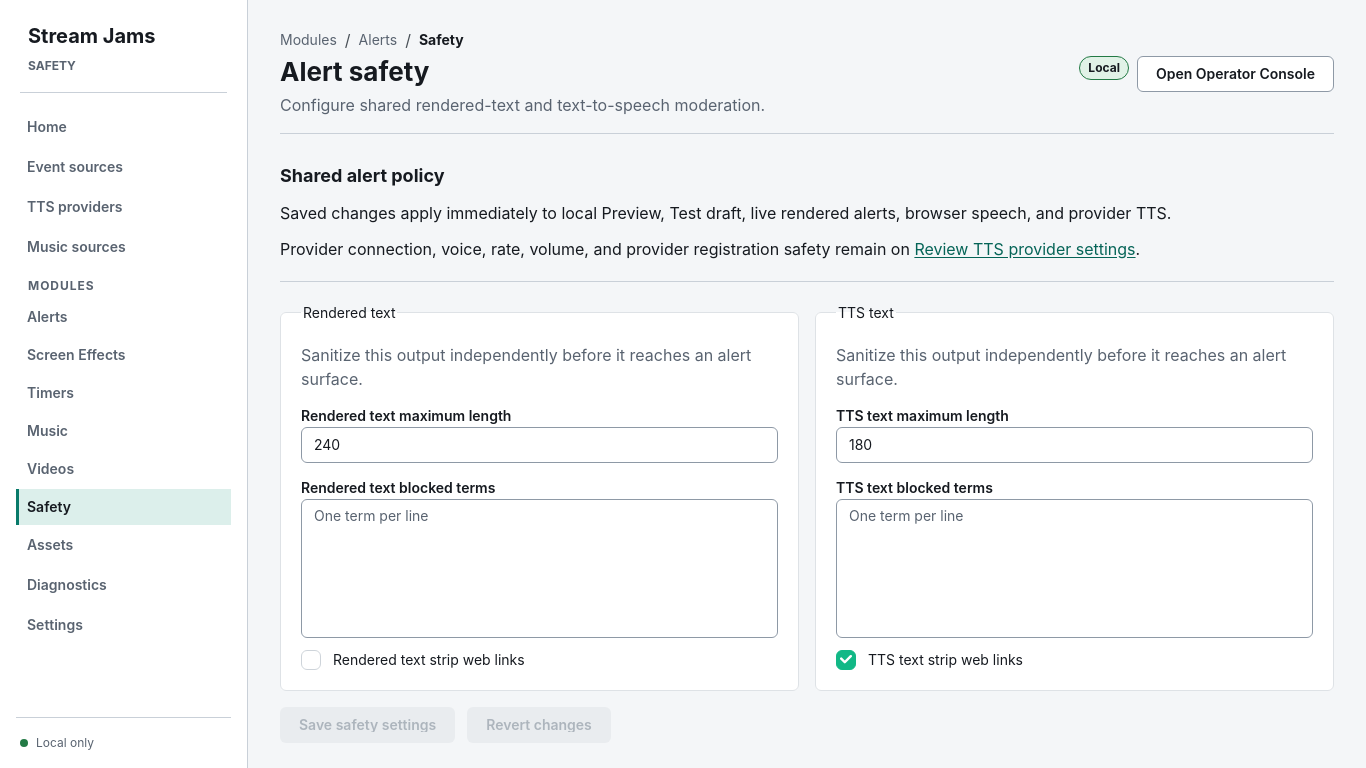
it: ManagementApp › cancels dirty alert safety navigation and keeps the draft
Replace the text in the number field labelled "Rendered text maximum length" with "300" at (540, 444), box [301,426,778,462]
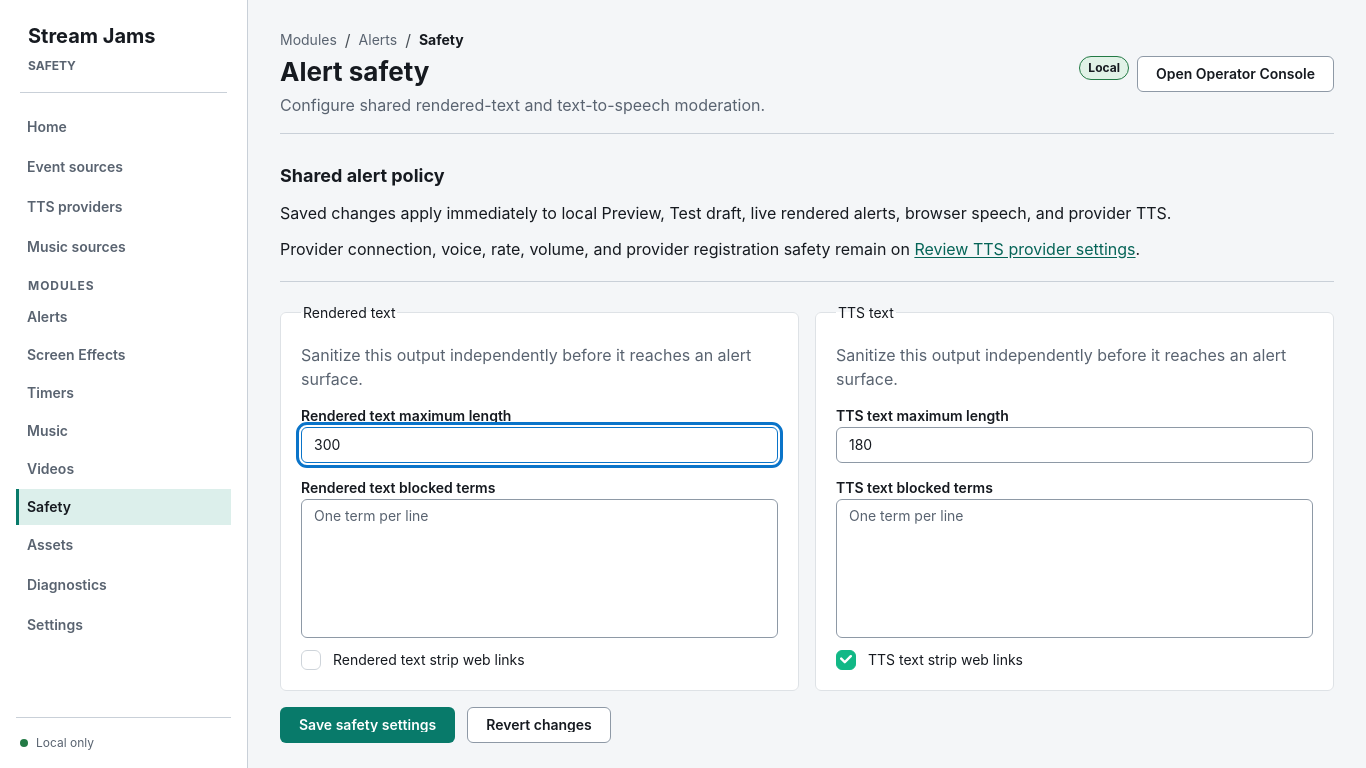
Click the link "Assets" at (50, 544), box [27,536,73,553]
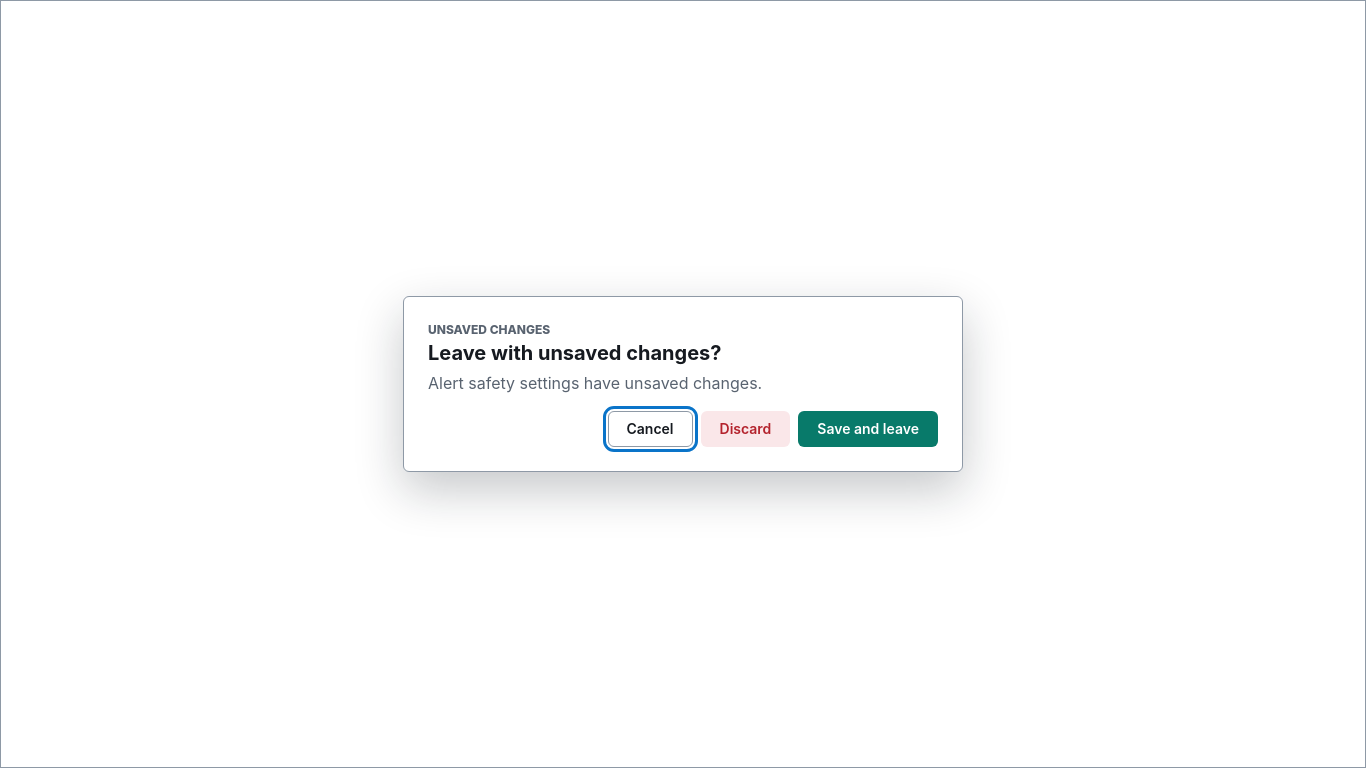
Click the button "Cancel" at (650, 429), box [608,411,692,447]
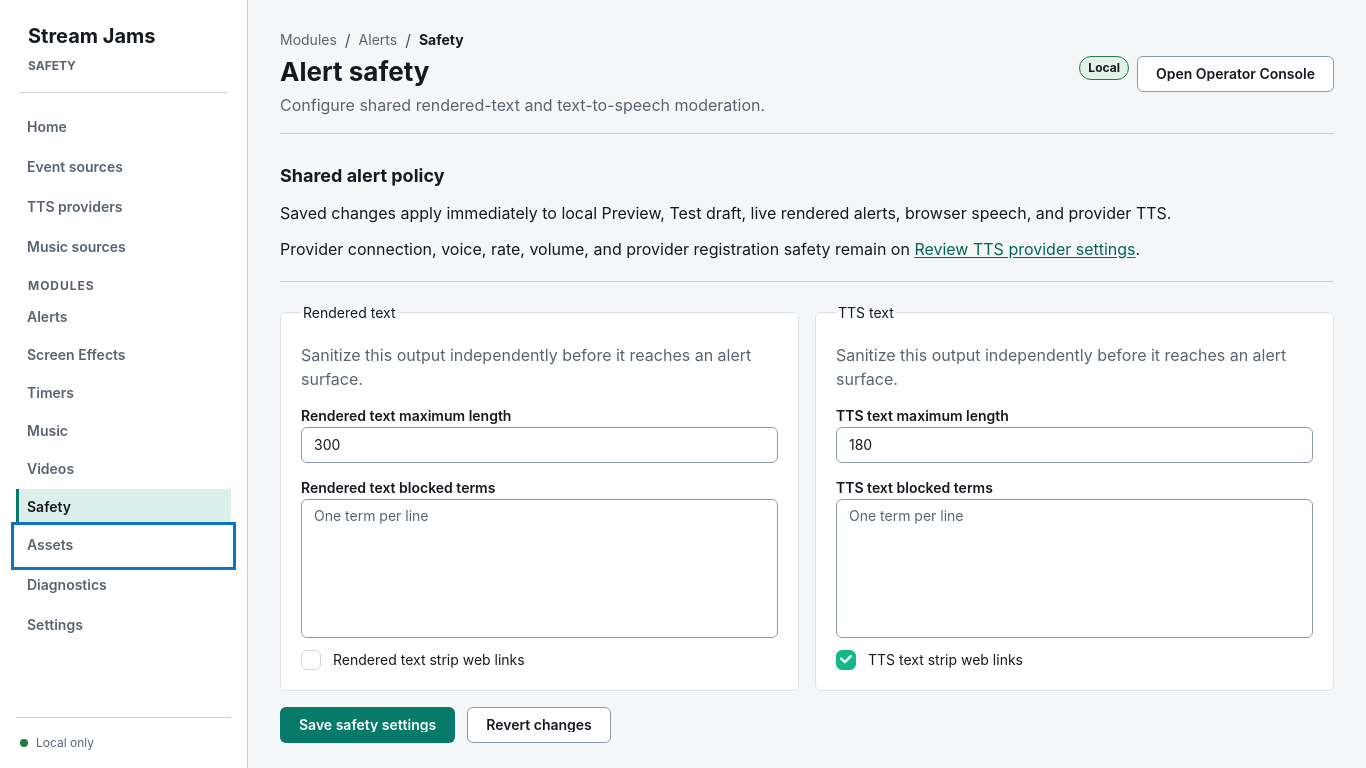
expect the heading "Leave with unsaved changes?" is gone: met
